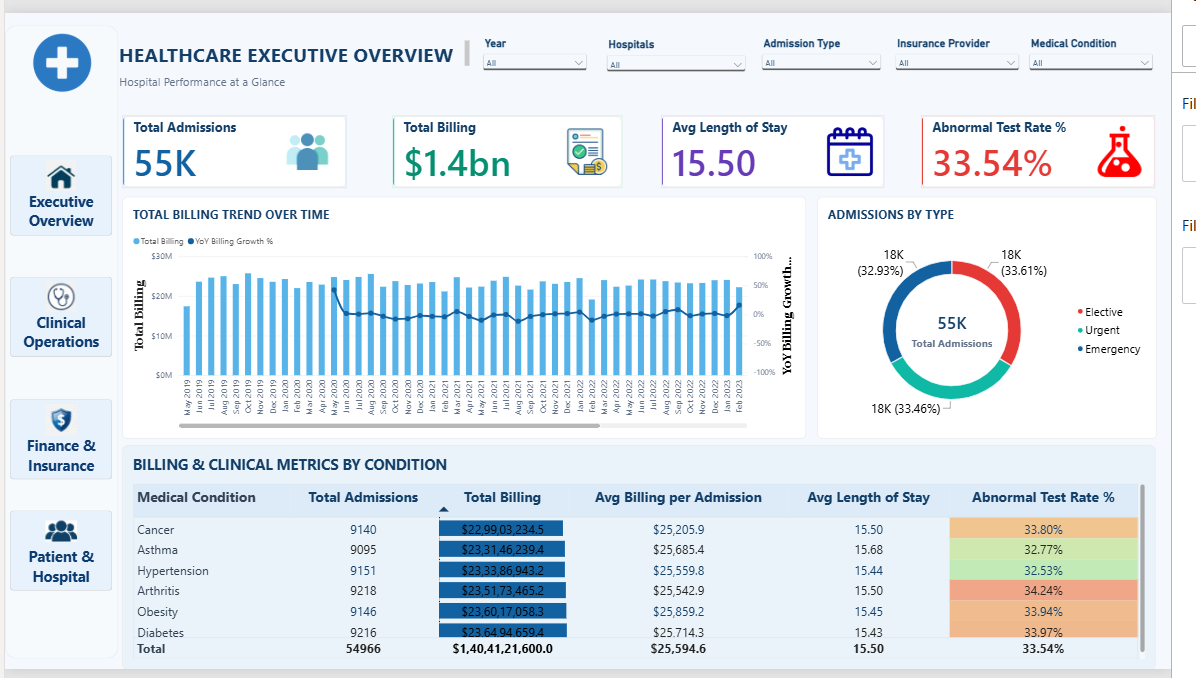

The page's visual inventory and layout, read from the dashboard file:
{"tool":"powerbi","page":{"name":"Executive Overview","canvas":[1920,1080],"ordinal":0},"visuals":[{"type":"textbox","box":[186.4,45.2,577.3,50.7],"z":0},{"type":"textbox","box":[171.9,101.3,329.4,30.8],"z":1000},{"type":"cardVisual","fields":{"Data":["Fact_Admissions.Total Admissions"]},"box":[193.6,168.3,369.2,119.4],"z":2000},{"type":"cardVisual","fields":{"Data":["Fact_Admissions.Total Billing"]},"box":[638.8,168.3,378.2,119.4],"z":3000},{"type":"cardVisual","fields":{"Data":["Fact_Admissions.Avg Length of Stay"]},"box":[1080.4,168.3,367.4,119.4],"z":4000},{"type":"cardVisual","fields":{"Data":["Fact_Admissions.Abnormal Test Rate %"]},"box":[1509.3,168.3,385.5,119.4],"z":5000},{"type":"lineClusteredColumnComboChart","title":"TOTAL BILLING TREND OVER TIME","fields":{"Category":["Dim_Date.MonthYear"],"Y":["Fact_Admissions.Total Billing"],"Y2":["Fact_Admissions.YoY Billing Growth %"]},"box":[193.6,302.2,1125.6,398.1],"z":6000},{"type":"donutChart","title":"ADMISSIONS BY TYPE","fields":{"Category":["Fact_Admissions.Admission Type"],"Y":["Fact_Admissions.Total Admissions"]},"box":[1337.3,302.2,558,398],"z":7000},{"type":"tableEx","title":"BILLING & CLINICAL METRICS BY CONDITION","fields":{"Values":["Dim_MedicalCondition.Medical Condition","Fact_Admissions.Total Admissions","Fact_Admissions.Total Billing","Fact_Admissions.Avg Billing per Admission","Fact_Admissions.Avg Length of Stay","Fact_Admissions.Abnormal Test Rate %"]},"box":[193.6,711.2,1701.1,369.2],"z":8000},{"type":"slicer","fields":{"Values":["Dim_Date.Year"]},"box":[781.8,39.8,181,86.9],"z":9000},{"type":"slicer","fields":{"Values":["Fact_Admissions.Hospitals"]},"box":[986.3,41.6,238.9,56.1],"z":10000},{"type":"slicer","fields":{"Values":["Dim_Insurance.Insurance Provider"]},"box":[1460.4,39.8,213.5,56.1],"z":11000},{"type":"slicer","fields":{"Values":["Fact_Admissions.Admission Type"]},"box":[1241.4,39.8,206.3,56.1],"z":12000},{"type":"slicer","fields":{"Values":["Dim_MedicalCondition.Medical Condition"]},"box":[1681.2,39.8,213.5,56.1],"z":13000},{"type":"shape","box":[0,19.9,186.4,1042.4],"z":14000},{"type":"image","box":[23.5,25.3,143,114],"z":15000},{"type":"actionButton","box":[9,235.3,168.3,132.1],"z":16000},{"type":"actionButton","box":[9,434.3,168.3,132.1],"z":17000},{"type":"actionButton","box":[9,635.2,168.3,132.1],"z":18000},{"type":"actionButton","box":[7.2,819.8,168.3,132.1],"z":18001}]}

Visuals, with their boxes on the page's 1920x1080 design canvas (x1, y1, x2, y2). These are canvas units, not pixel positions in the 1196x678 screenshot, which may show the page scaled, cropped or inside an application window:
textbox: rect(186, 45, 764, 96)
textbox: rect(172, 101, 501, 132)
cardVisual - Fact_Admissions.Total Admissions: rect(194, 168, 563, 288)
cardVisual - Fact_Admissions.Total Billing: rect(639, 168, 1017, 288)
cardVisual - Fact_Admissions.Avg Length of Stay: rect(1080, 168, 1448, 288)
cardVisual - Fact_Admissions.Abnormal Test Rate %: rect(1509, 168, 1895, 288)
"TOTAL BILLING TREND OVER TIME" lineClusteredColumnComboChart: rect(194, 302, 1319, 700)
"ADMISSIONS BY TYPE" donutChart: rect(1337, 302, 1895, 700)
"BILLING & CLINICAL METRICS BY CONDITION" tableEx: rect(194, 711, 1895, 1080)
slicer - Dim_Date.Year: rect(782, 40, 963, 127)
slicer - Fact_Admissions.Hospitals: rect(986, 42, 1225, 98)
slicer - Dim_Insurance.Insurance Provider: rect(1460, 40, 1674, 96)
slicer - Fact_Admissions.Admission Type: rect(1241, 40, 1448, 96)
slicer - Dim_MedicalCondition.Medical Condition: rect(1681, 40, 1895, 96)
shape: rect(0, 20, 186, 1062)
image: rect(24, 25, 166, 139)
actionButton: rect(9, 235, 177, 367)
actionButton: rect(9, 434, 177, 566)
actionButton: rect(9, 635, 177, 767)
actionButton: rect(7, 820, 176, 952)
